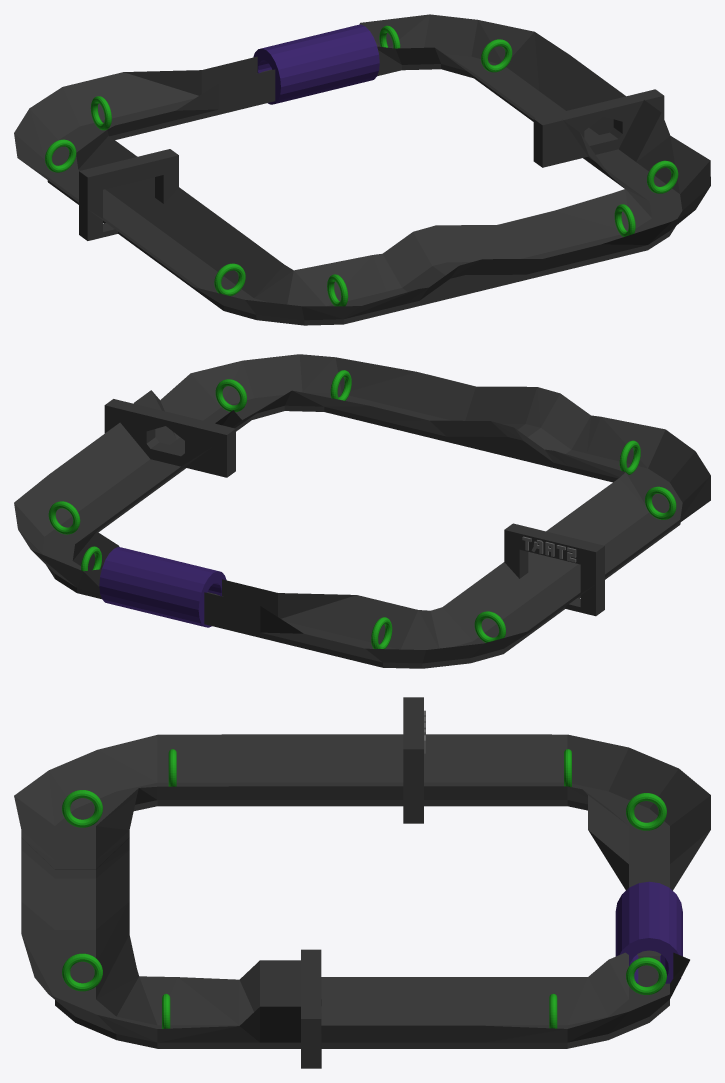
The model's file is BasicTrack.obj.
3 views of the same model, one above another, from view 1: azimuth 30°, elevation 25°; view 2: azimuth 150°, elevation 25°; view 3: azimuth 270°, elevation 25° (orthographic). The views are drawn at different scales.
Visible parts, largest first — view 1: Track_polySurface3, Checkpoint_5_Torus, Checkpoint_8_Torus, Checkpoint_4_Torus, Checkpoint_1_Torus, Checkpoint_7_Torus; view 2: Track_polySurface3, Checkpoint_5_Torus, Checkpoint_1_Torus, Checkpoint_4_Torus, Checkpoint_8_Torus, Checkpoint_2_Torus; view 3: Track_polySurface3, Checkpoint_7_Torus, Checkpoint_3_Torus, Checkpoint_2_Torus, Checkpoint_6_Torus.
Boxes of the visible parts, x1,y1,x2,y2 form: Track_polySurface3: [14, 14, 710, 325]; Checkpoint_5_Torus: [481, 39, 512, 72]; Checkpoint_8_Torus: [45, 139, 76, 172]; Checkpoint_4_Torus: [647, 160, 678, 193]; Checkpoint_1_Torus: [214, 263, 245, 296]; Checkpoint_7_Torus: [90, 96, 111, 130]; Track_polySurface3: [14, 354, 710, 668]; Checkpoint_5_Torus: [48, 501, 80, 534]; Checkpoint_1_Torus: [645, 486, 676, 519]; Checkpoint_4_Torus: [215, 379, 246, 412]; Checkpoint_8_Torus: [474, 611, 505, 642]; Checkpoint_2_Torus: [619, 440, 640, 474]; Track_polySurface3: [14, 697, 710, 1068]; Checkpoint_7_Torus: [626, 793, 666, 830]; Checkpoint_3_Torus: [62, 953, 102, 991]; Checkpoint_2_Torus: [62, 790, 102, 827]; Checkpoint_6_Torus: [626, 957, 666, 994].
Size of the model in its own units: 35 by 4.51 by 34.
